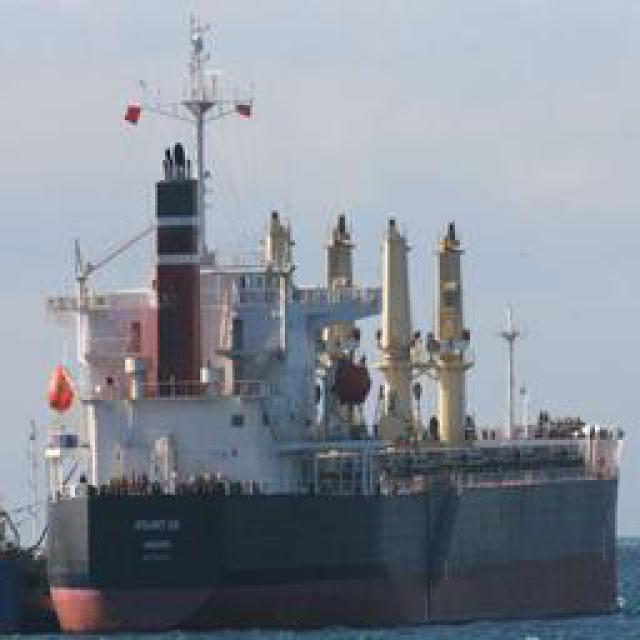Ship: (16, 89, 640, 635)
